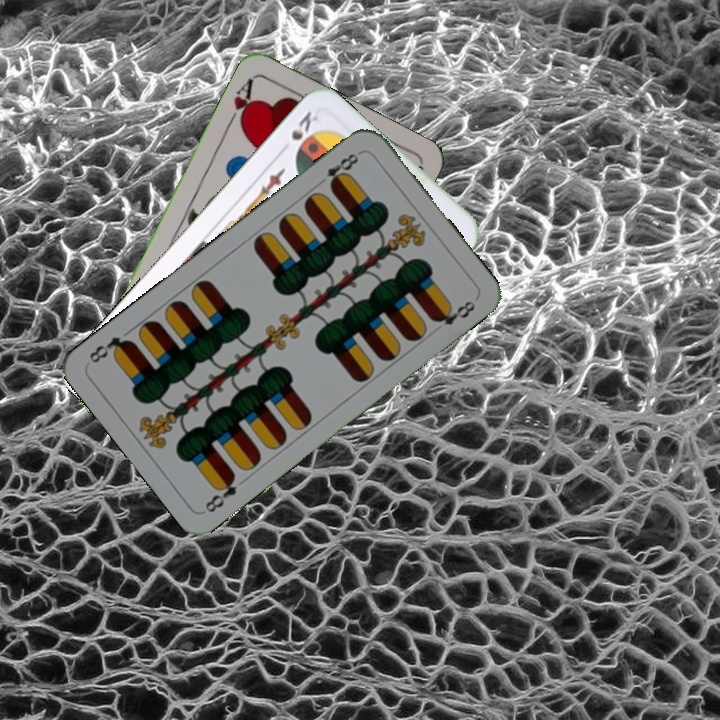E8: (313, 147, 364, 191), (201, 469, 240, 515)
HA: (223, 73, 258, 131)
SK: (287, 106, 321, 155)
